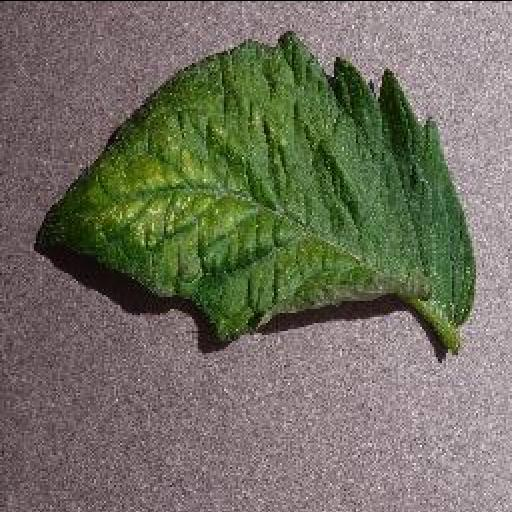disease_tomato: (59, 30, 473, 338)
